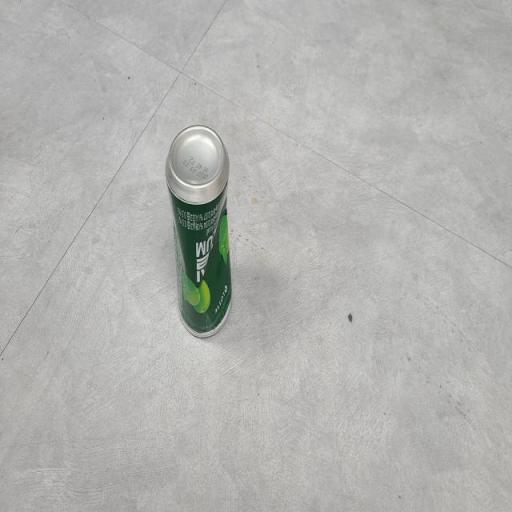metal: (162, 122, 241, 345)
